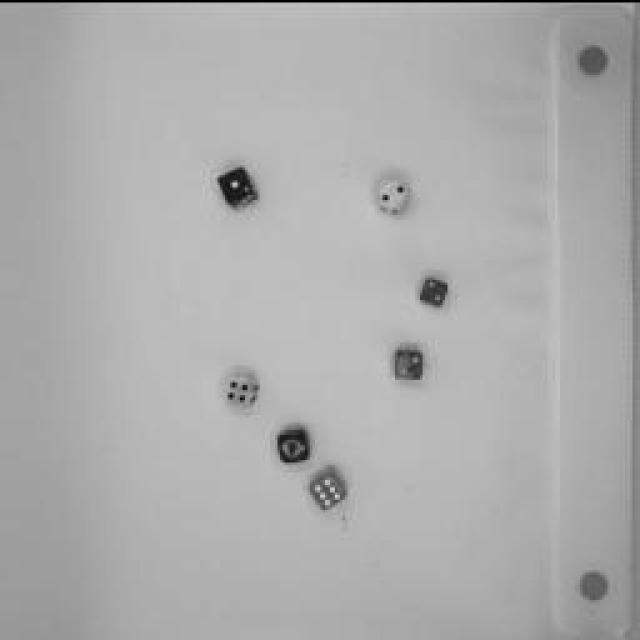dice_1: (216, 166, 262, 206), (278, 426, 312, 464)
dice_2: (376, 172, 414, 212), (394, 342, 426, 378), (418, 275, 454, 305)
dice_4: (222, 370, 260, 405)
dice_6: (309, 464, 349, 508)
